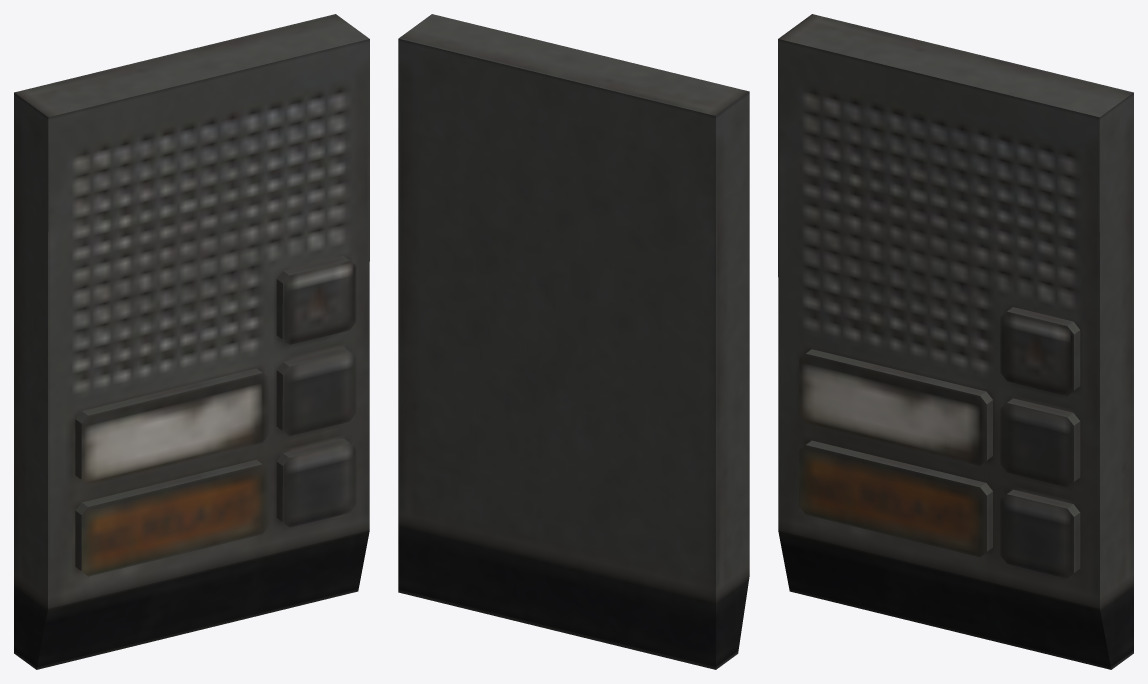
File: button_11.obj
3 views of the same model, side by side, from view 1: azimuth 30°, elevation 25°; view 2: azimuth 150°, elevation 25°; view 3: azimuth 330°, elevation 25° (orthographic).
Visible parts, largest first — view 1: button_11; view 2: button_11; view 3: button_11.
Boxes of the visible parts, left/top/right/bottom form: button_11: left=14, top=14, right=369, bottom=669; button_11: left=398, top=14, right=749, bottom=669; button_11: left=778, top=14, right=1133, bottom=669.
Size of the model in its own units: 0.12 by 0.2 by 0.026.
